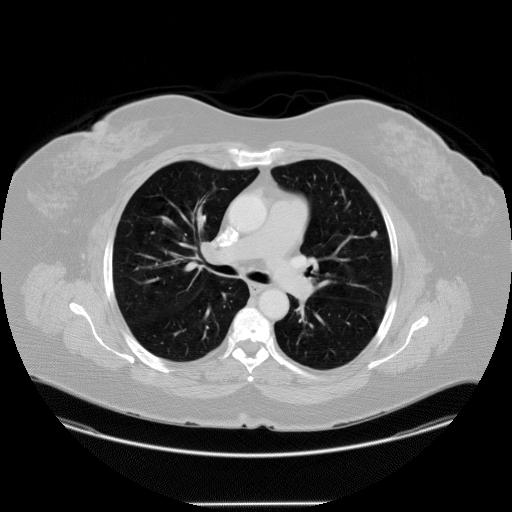nodule: (368, 228, 380, 240)
